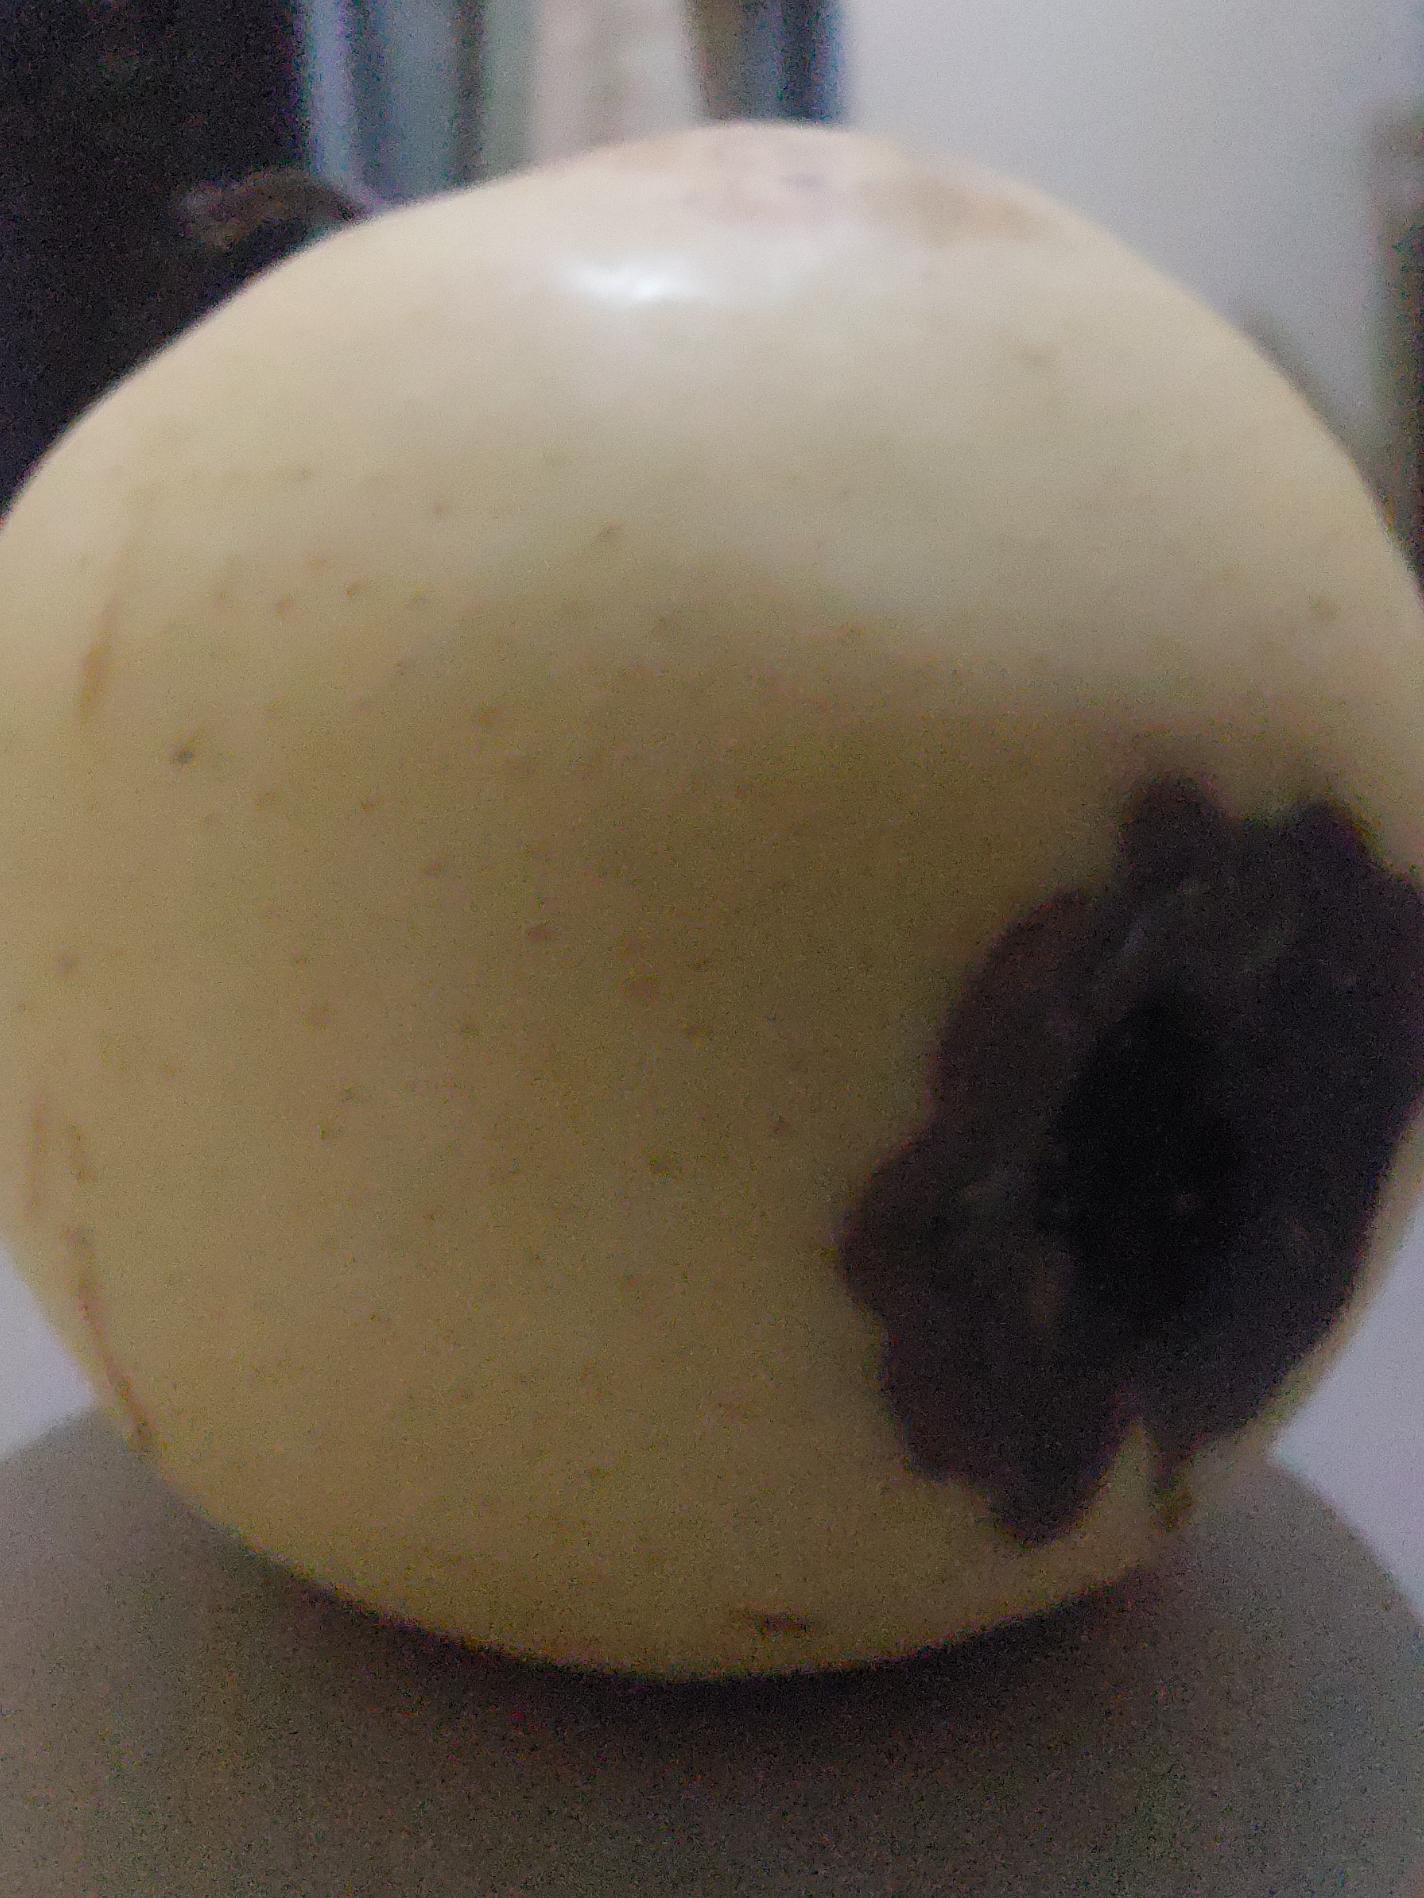Bad Pear: (0, 111, 1424, 1722)
